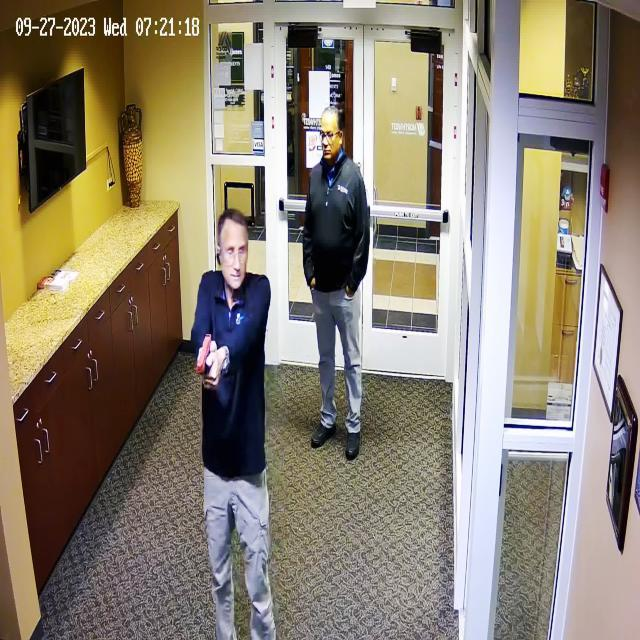Gun: (190, 328, 227, 385)
